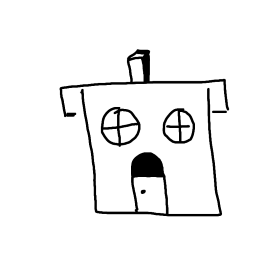chimney: (119, 41, 156, 85)
closed_window: (94, 101, 143, 145), (158, 106, 199, 144)
door: (119, 148, 176, 218)
single_line_roof: (46, 75, 238, 118)
wall: (78, 106, 236, 222)
